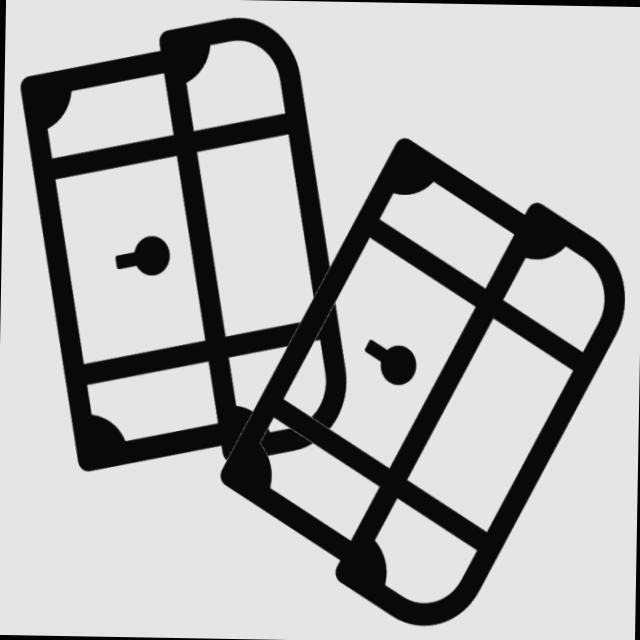treasure_box: (208, 117, 635, 636), (7, 8, 358, 487)
